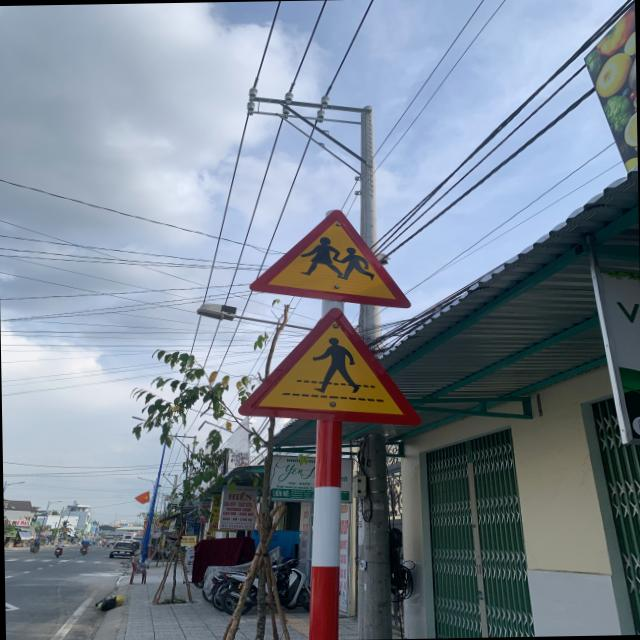Duong_Nguoi_Di_Bo_Sang_Ngang: (235, 304, 421, 430)
Vong_Xuyen: (244, 206, 411, 310)
